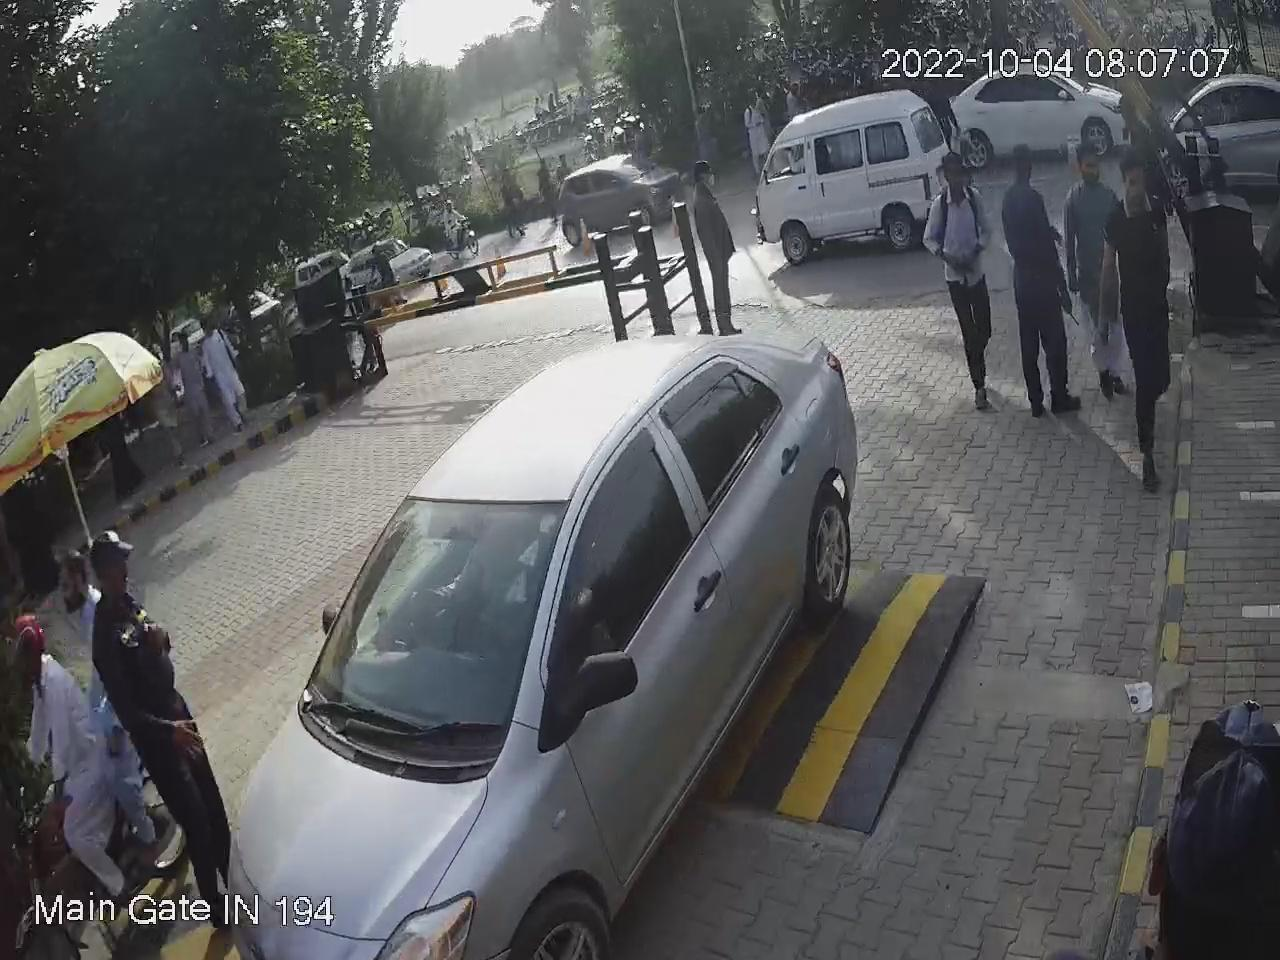windshield: (300, 490, 565, 767)
